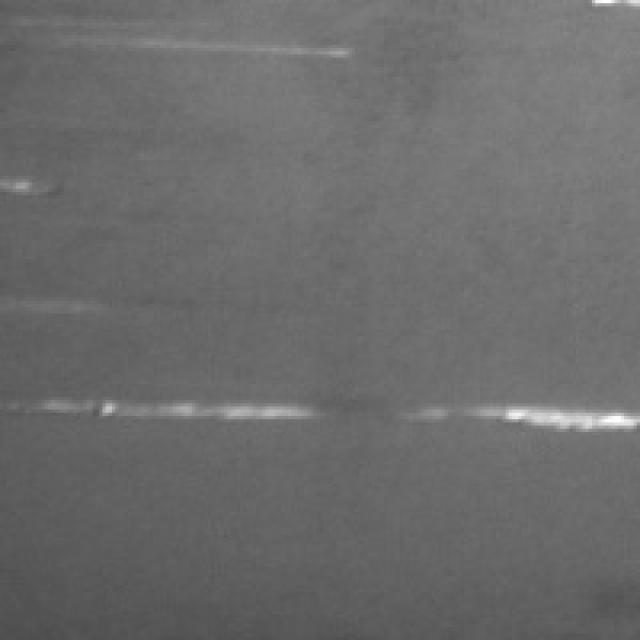scratches: (39, 384, 314, 429), (419, 388, 634, 438)
